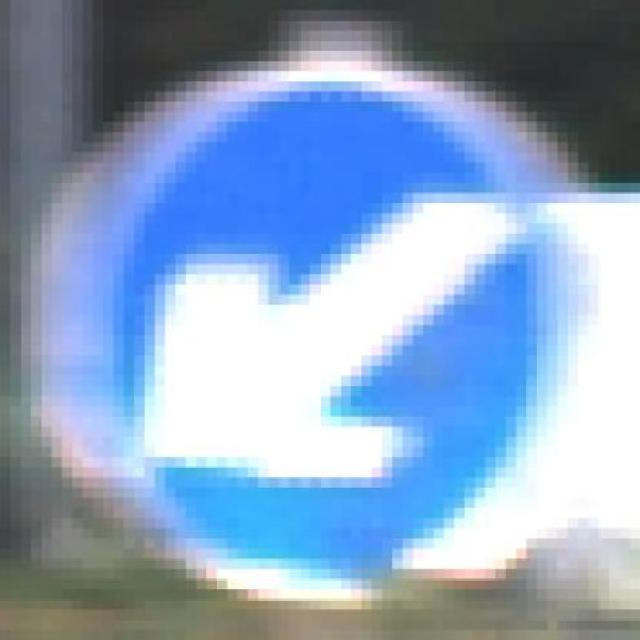Keep-Left: (31, 61, 609, 599)
